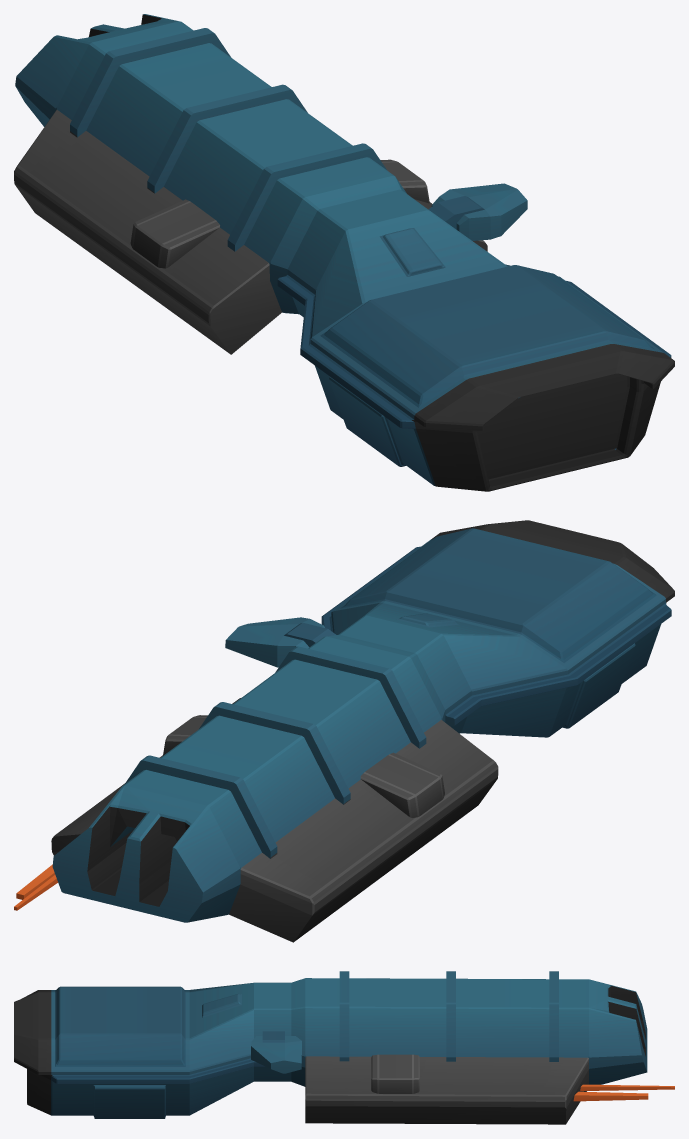
Rendered from destroyer.glb.
3 renders of one model, top to bottom at view 1: azimuth 30°, elevation 25°; view 2: azimuth 150°, elevation 25°; view 3: azimuth 270°, elevation 25°, orthographic. The views are drawn at different scales.
Parts seen in each view (by area): view 1: Hull, Cube.009, Bridge, Cube.002, Cube.004, Cube.003; view 2: Hull, Cube.009, Bridge, Cube.002, Cube.004, Cube.003, Cube.007; view 3: Hull, Cube.009, Bridge, Cube.007, Cube.003, Cube.002, Cube.004.
Boxes of the visible parts, left/top/right/bottom form: Hull: left=14, top=14, right=674, bottom=491; Cube.009: left=130, top=159, right=429, bottom=268; Bridge: left=428, top=183, right=527, bottom=240; Cube.002: left=70, top=28, right=231, bottom=137; Cube.004: left=147, top=84, right=307, bottom=193; Cube.003: left=227, top=143, right=386, bottom=251; Hull: left=51, top=520, right=674, bottom=942; Cube.009: left=163, top=715, right=444, bottom=817; Bridge: left=225, top=617, right=336, bottom=667; Cube.002: left=125, top=755, right=277, bottom=858; Cube.004: left=199, top=702, right=350, bottom=804; Cube.003: left=275, top=646, right=426, bottom=748; Cube.007: left=14, top=864, right=57, bottom=910; Hull: left=14, top=978, right=647, bottom=1124; Cube.009: left=371, top=1054, right=419, bottom=1093; Bridge: left=251, top=1031, right=301, bottom=1073; Cube.007: left=573, top=1084, right=674, bottom=1101; Cube.003: left=339, top=971, right=349, bottom=1061; Cube.002: left=549, top=971, right=558, bottom=1061; Cube.004: left=446, top=971, right=455, bottom=1061.
Size of what is drawn, in the model's own units: 21.77 by 10.58 by 64.03.
1 material, 1 textured.
